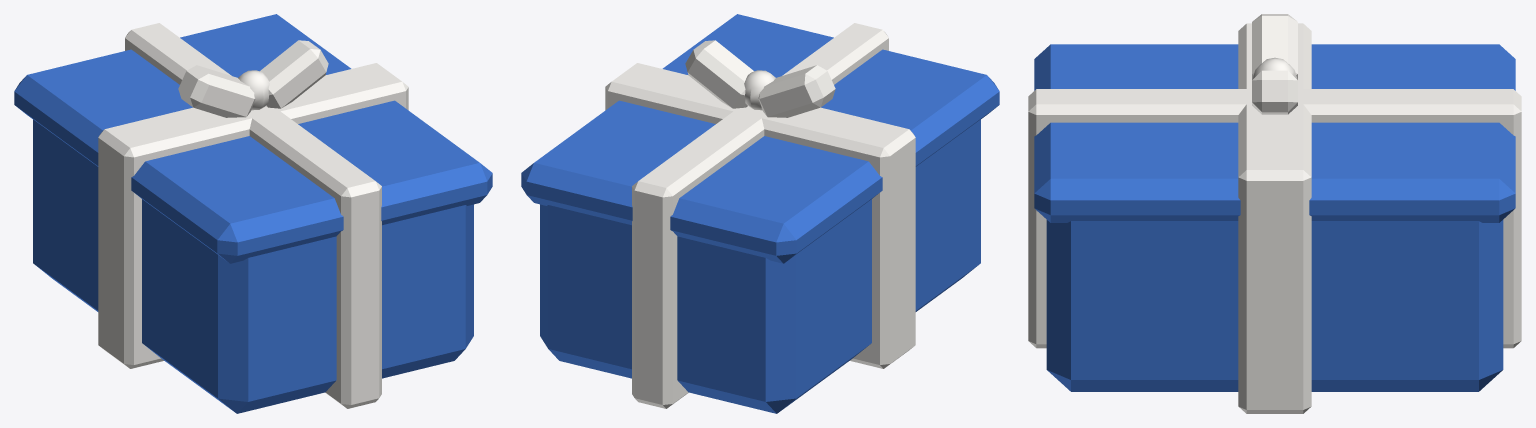
The model's file is vuena-prop-present-blue.glb.
3 views of the same model, side by side, from view 1: azimuth 30°, elevation 25°; view 2: azimuth 150°, elevation 25°; view 3: azimuth 270°, elevation 25° (orthographic). The views are drawn at different scales.
Parts seen in each view (by area): view 1: present_blue; view 2: present_blue; view 3: present_blue.
Part boxes in pixels (x1,y1,x2,y2): present_blue: (14, 14, 492, 413); present_blue: (521, 14, 999, 413); present_blue: (1028, 14, 1521, 413).
Bounding box in the file's own units: 0.445 × 0.4023 × 0.605.
1 material, 1 textured.
